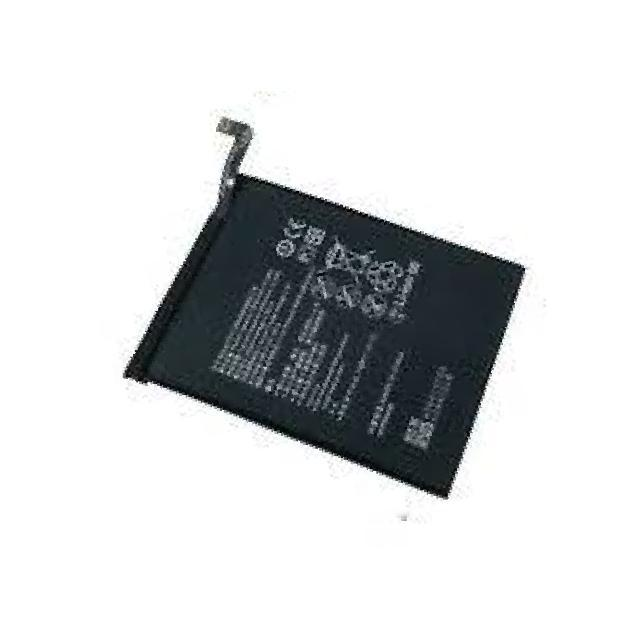Battery: (96, 94, 548, 517)
